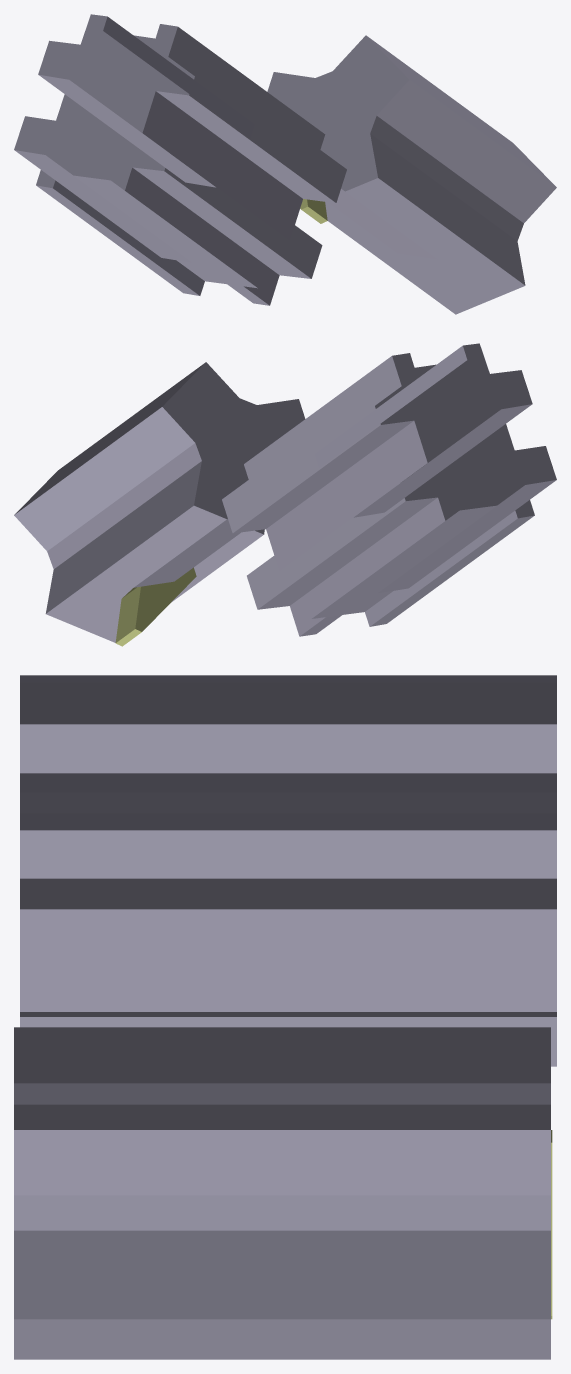
The picture shows the model from 3 angles, top to bottom: view 1: azimuth 30°, elevation 25°; view 2: azimuth 150°, elevation 25°; view 3: azimuth 270°, elevation 25°; orthographic projection. The views are drawn at different scales.
Visible parts, largest first — view 1: 0_0_1_3_1_1_3_2; view 2: 0_0_1_3_1_1_3_2; view 3: 0_0_1_3_1_1_3_2.
Part boxes in pixels (x1,y1,x2,y2): 0_0_1_3_1_1_3_2: (14, 14, 556, 314); 0_0_1_3_1_1_3_2: (14, 343, 556, 646); 0_0_1_3_1_1_3_2: (14, 675, 556, 1359).
Size of the model in its own units: 69.45 by 41.35 by 45.5.
